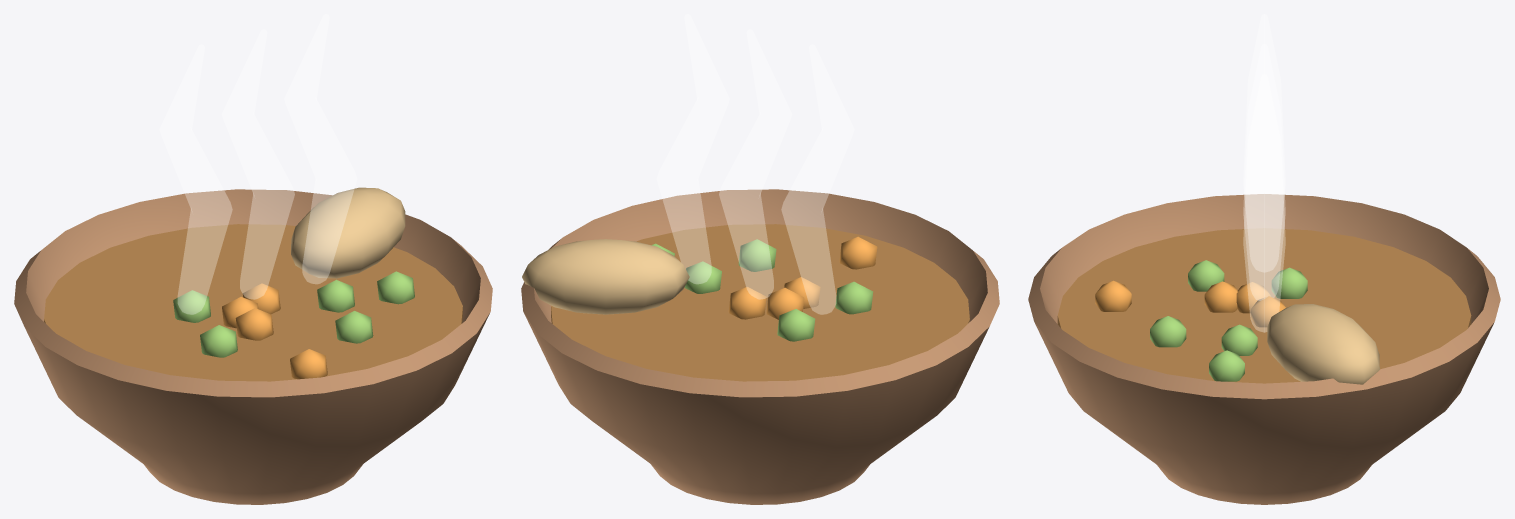
File: food_bowl.glb
The picture shows the model from 3 angles, left to right: view 1: azimuth 30°, elevation 25°; view 2: azimuth 150°, elevation 25°; view 3: azimuth 270°, elevation 25°; orthographic projection.
Visible parts, largest first — view 1: food_bowl; view 2: food_bowl; view 3: food_bowl.
Boxes of the visible parts, x1,y1,x2,y2 form: food_bowl: (14,14,492,504); food_bowl: (521,14,999,504); food_bowl: (1028,14,1500,504).
Bounding box in the file's own units: 0.4 × 0.393 × 0.4.
